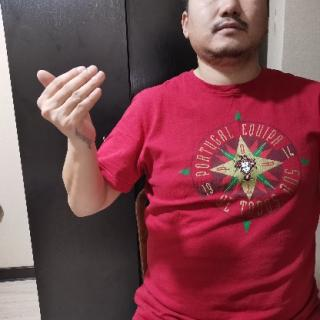KHAA: (35, 59, 114, 148)
